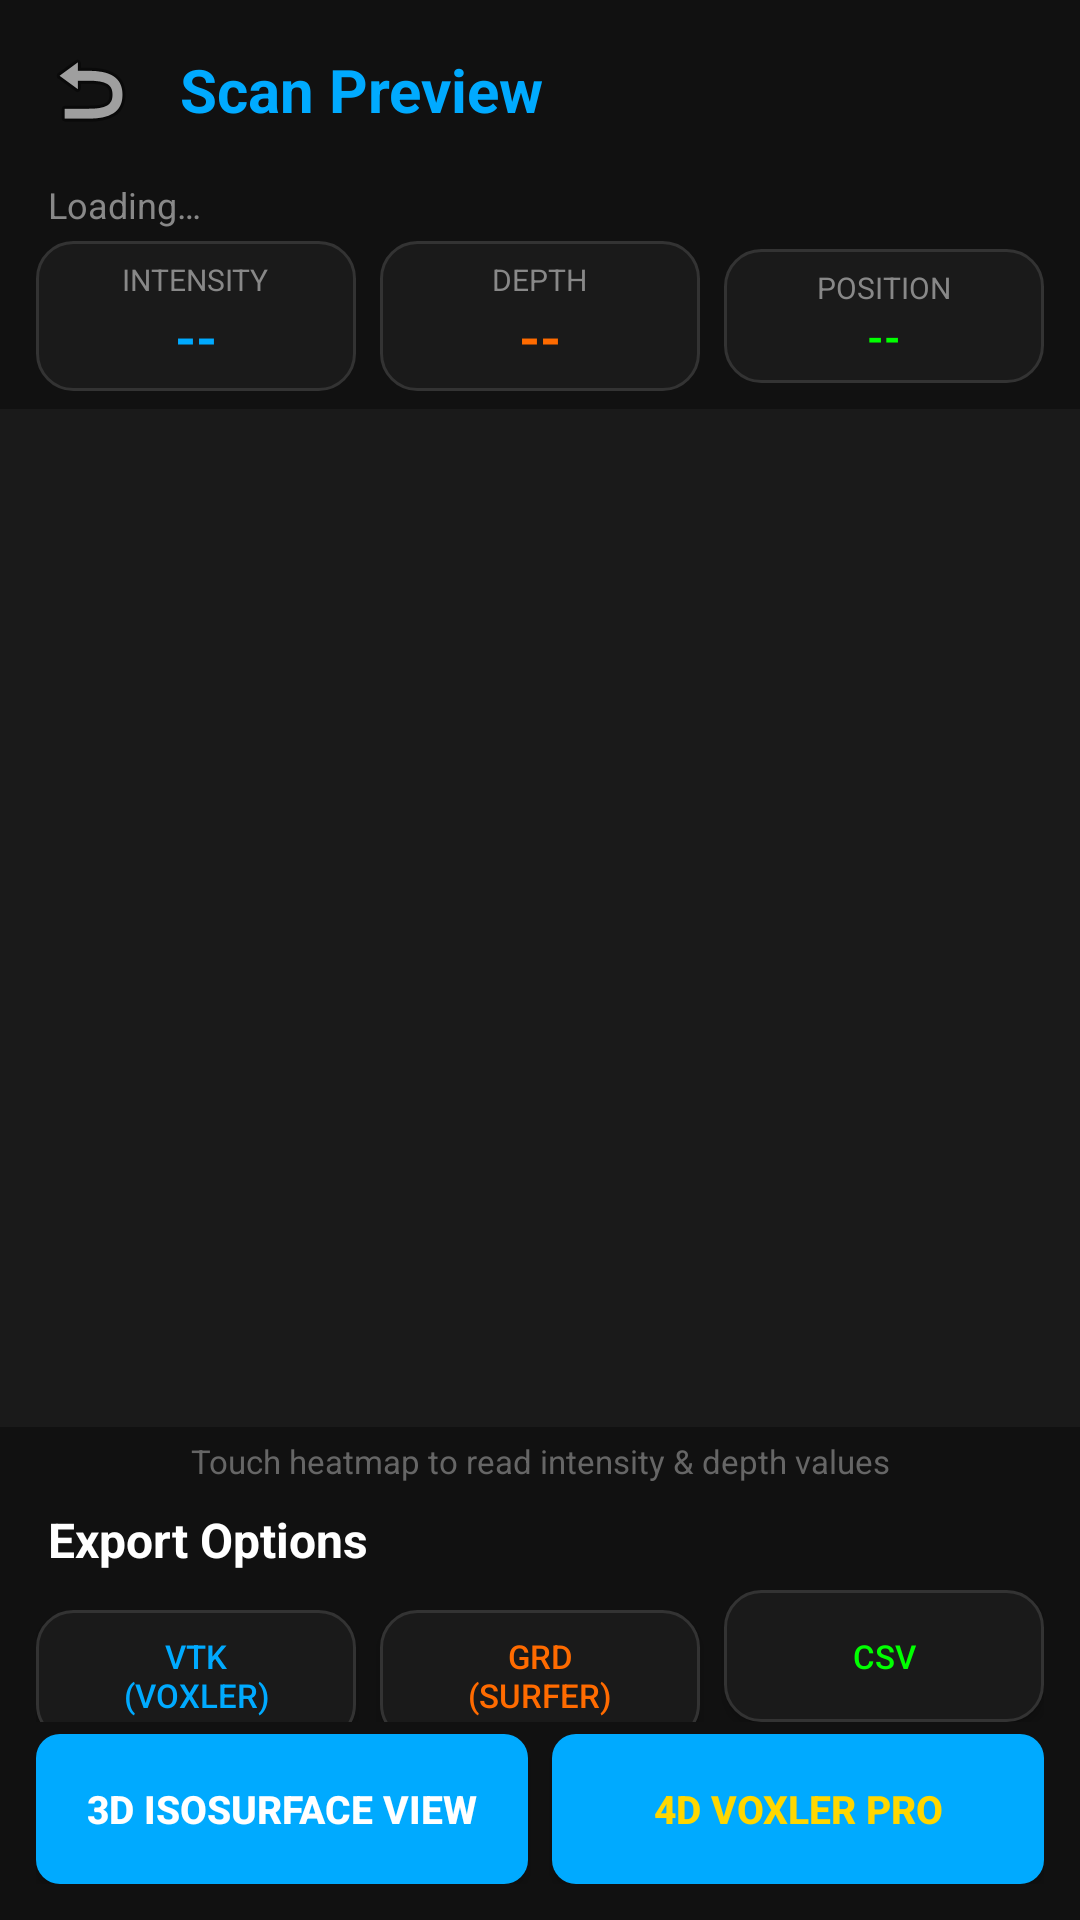

Screen size 1080px×1920px. Icon name, then its center in pixels as (x=x, y=y):
revert: (x=91, y=90)
